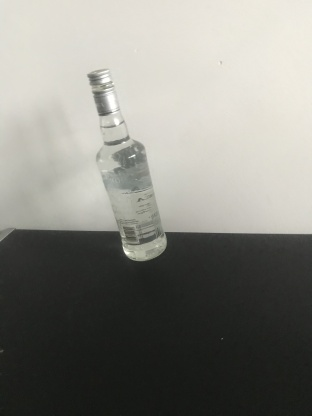nakretka: (85, 65, 121, 116)
